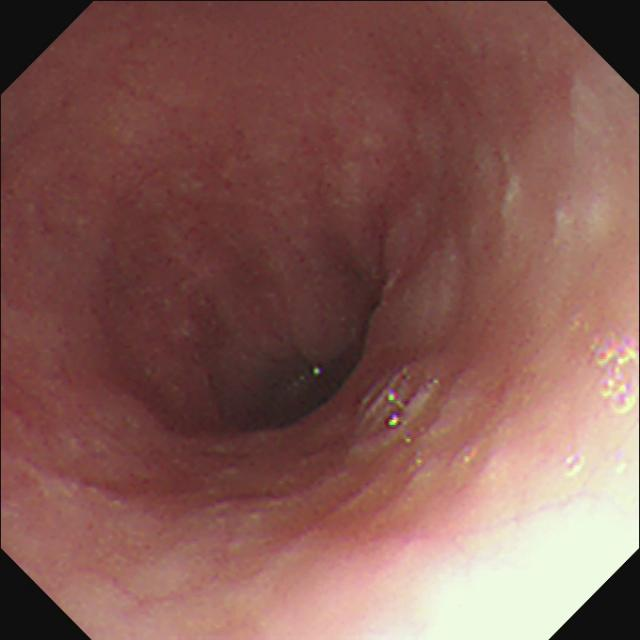E: (181, 278, 380, 448)
T: (589, 332, 640, 419)
